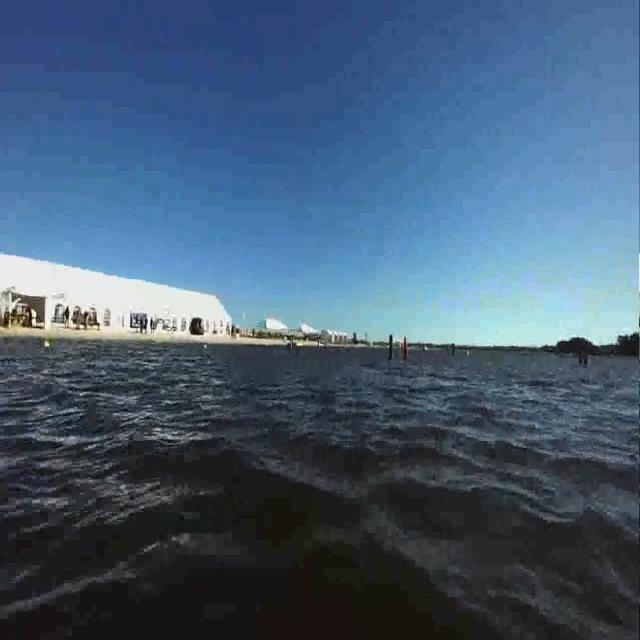green-column-buoy: (386, 333, 394, 360)
red-column-buoy: (400, 336, 408, 362)
